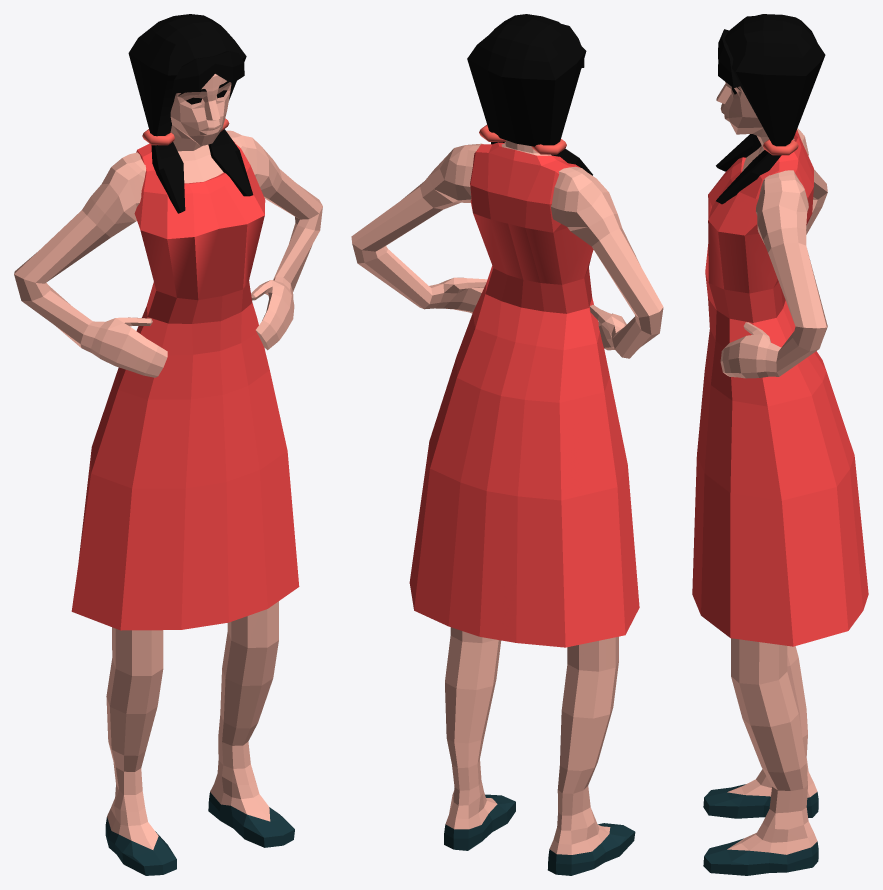
The model's file is Female_pose_01.FBX.
3 renders of one model, left to right at view 1: azimuth 30°, elevation 25°; view 2: azimuth 150°, elevation 25°; view 3: azimuth 270°, elevation 25°, orthographic.
Parts seen in each view (by area): view 1: Female_pose_01; view 2: Female_pose_01; view 3: Female_pose_01.
Boxes of the visible parts, x1,y1,x2,y2 form: Female_pose_01: (14,14,322,875); Female_pose_01: (351,14,663,875); Female_pose_01: (692,14,868,875).
Size of the model in its own units: 0.6749 by 1.72 by 0.3369.
1 material, 1 textured.
